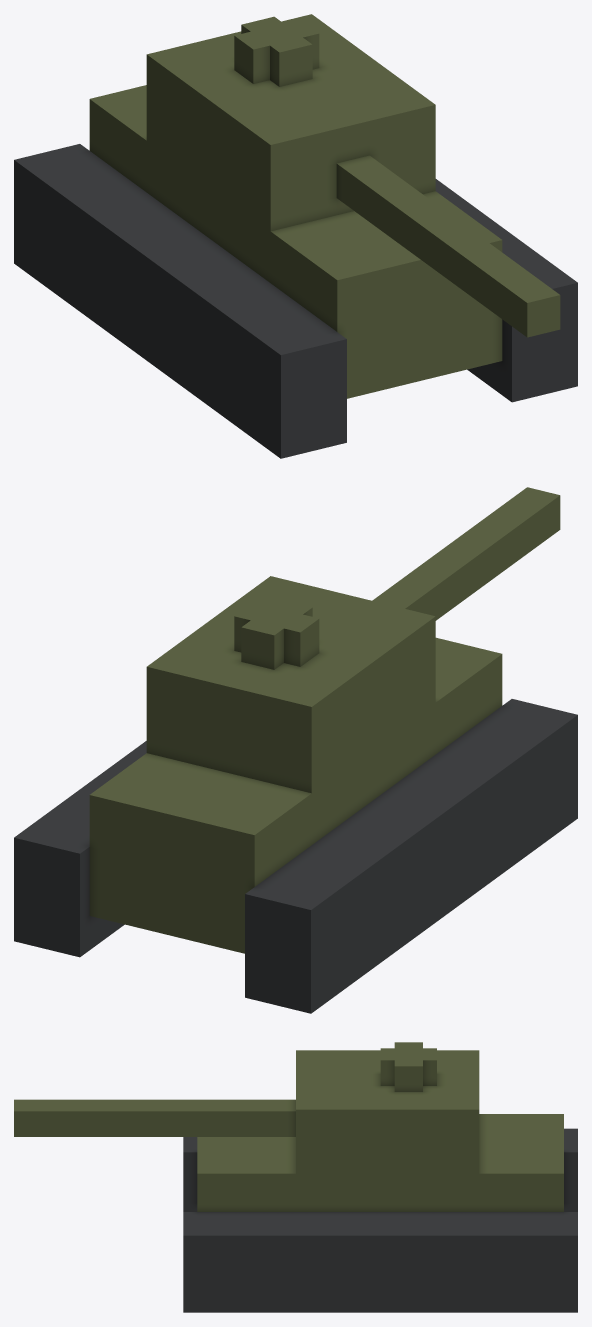
Rendered from u_tank.glb.
3 renders of one model, top to bottom at view 1: azimuth 30°, elevation 25°; view 2: azimuth 150°, elevation 25°; view 3: azimuth 270°, elevation 25°, orthographic. The views are drawn at different scales.
Parts seen in each view (by area): view 1: u_tank_body; view 2: u_tank_body; view 3: u_tank_body.
Part boxes in pixels (bbox=[...]): u_tank_body: bbox=[14, 14, 577, 458]; u_tank_body: bbox=[14, 487, 577, 1013]; u_tank_body: bbox=[14, 1042, 577, 1312].
Bounding box in the file's own units: 1.12 × 1 × 2.5.
1 material, 1 textured.
